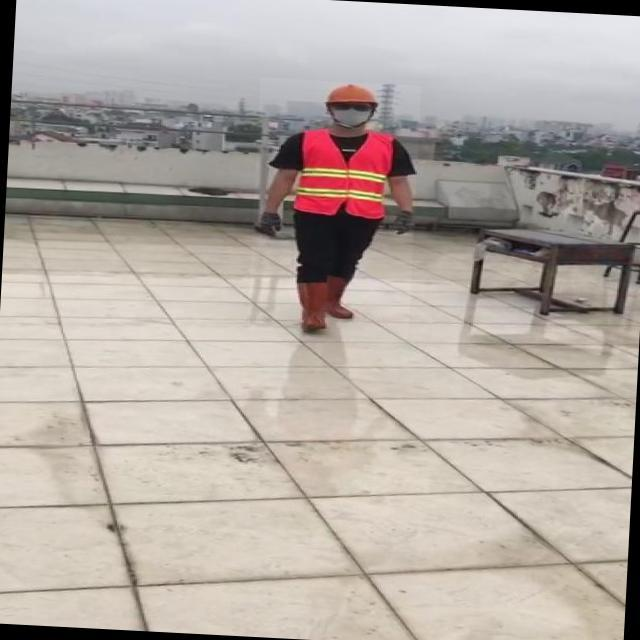Gloves: (253, 212, 282, 238), (396, 211, 415, 236)
Helmet: (324, 82, 382, 107)
Human: (248, 78, 422, 339)
Safety Boot: (292, 281, 331, 332), (328, 280, 358, 321)
Safety Vest: (297, 127, 394, 221)
